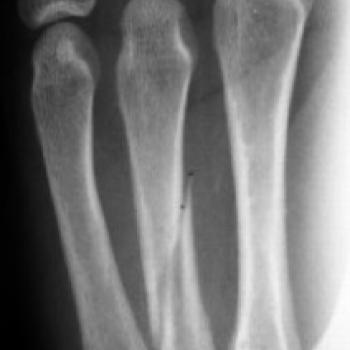Fracture: (166, 166, 200, 236)
